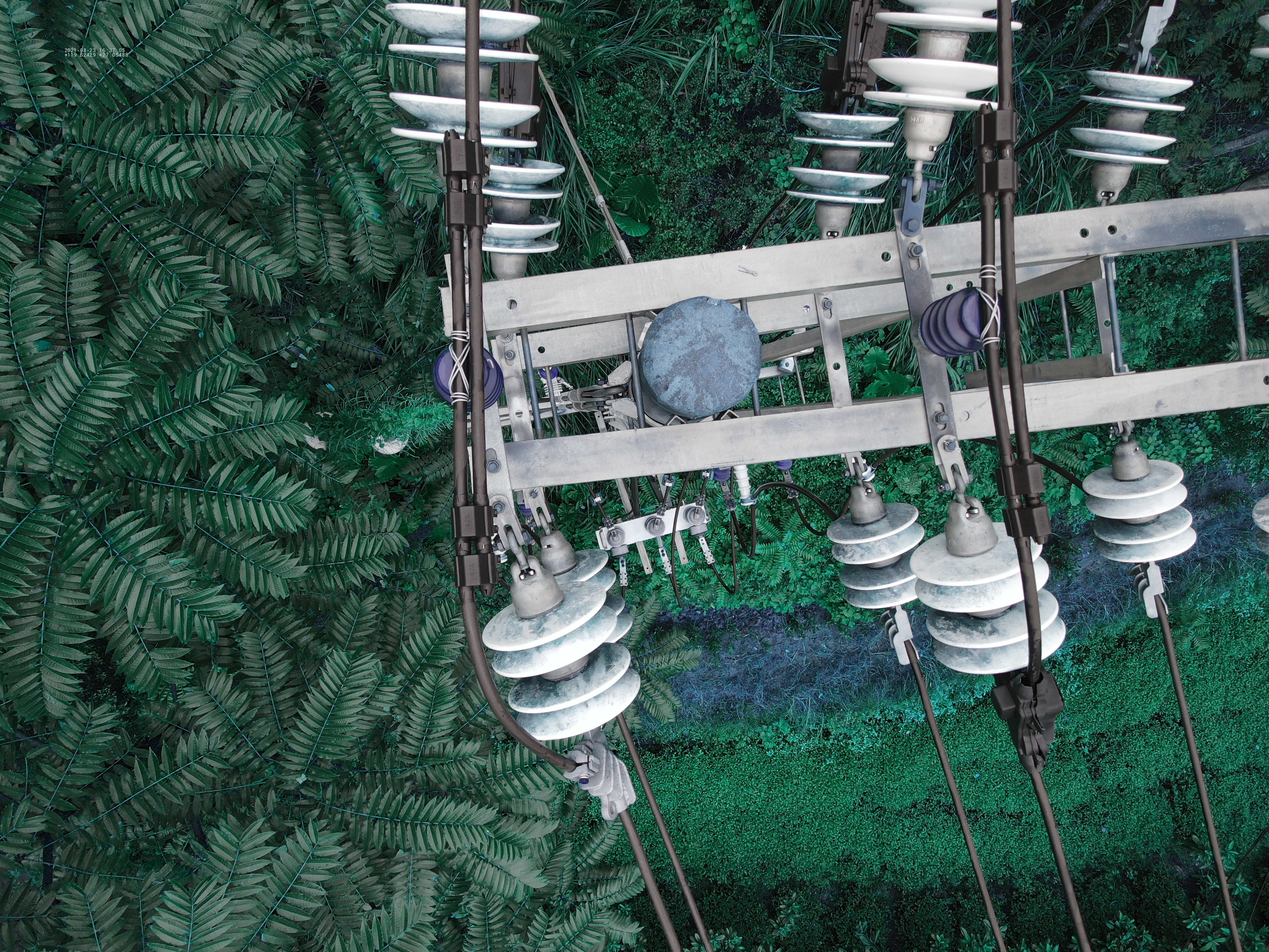severe_soiling_no_discharge_whole: (377, 5, 545, 192), (479, 552, 641, 743), (907, 500, 1072, 678), (1061, 68, 1197, 199), (782, 103, 902, 238), (1080, 441, 1201, 565), (824, 483, 927, 612), (533, 530, 635, 644), (475, 152, 566, 278)
